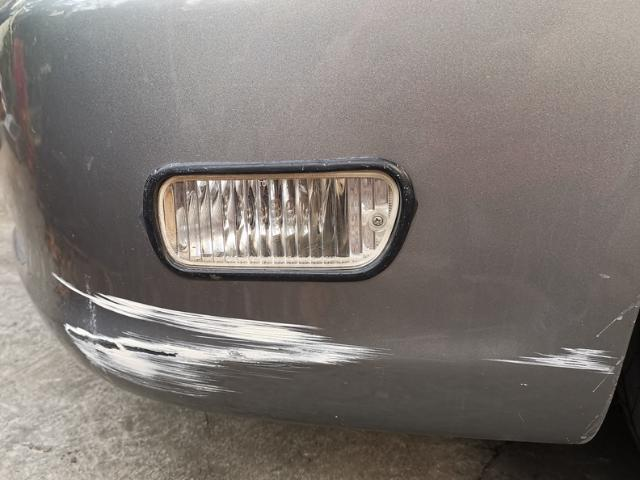Bumper: (38, 268, 624, 438)
